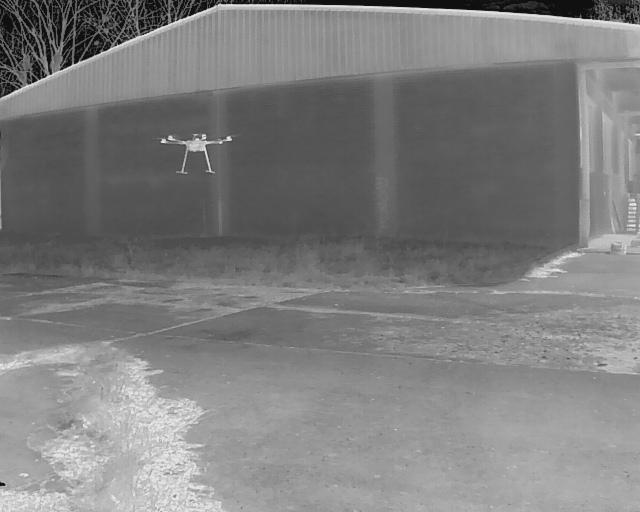drone: (162, 128, 238, 180)
